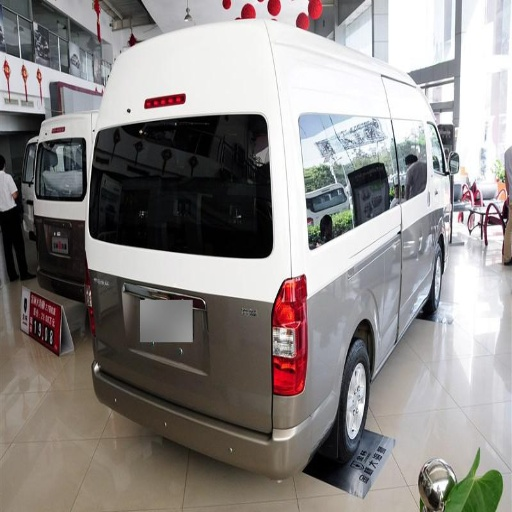back_bumper: (135, 328, 347, 474)
back_glass: (132, 145, 267, 256), (142, 45, 231, 86)
back_right_door: (375, 261, 401, 348)
trunk: (89, 245, 307, 430), (324, 248, 370, 359)
